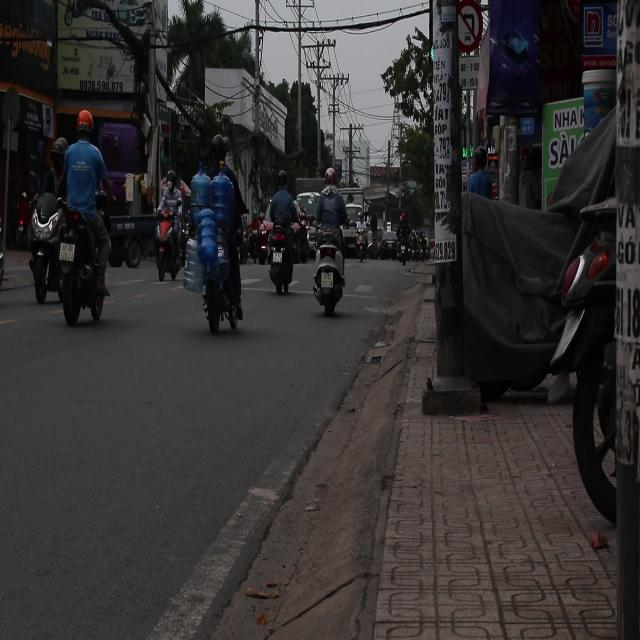car: (378, 232, 398, 260)
motorbike: (48, 196, 112, 326), (189, 208, 244, 336), (27, 194, 65, 302), (308, 220, 346, 313), (152, 206, 188, 283), (267, 221, 297, 294)
